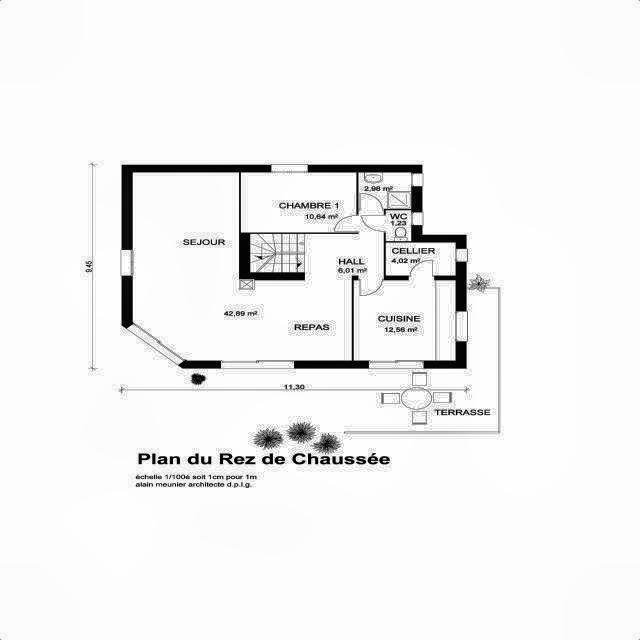room: (133, 172, 358, 360), (354, 277, 457, 361), (241, 172, 357, 233), (386, 243, 456, 276), (251, 234, 304, 272), (359, 172, 411, 208), (386, 210, 411, 241)
